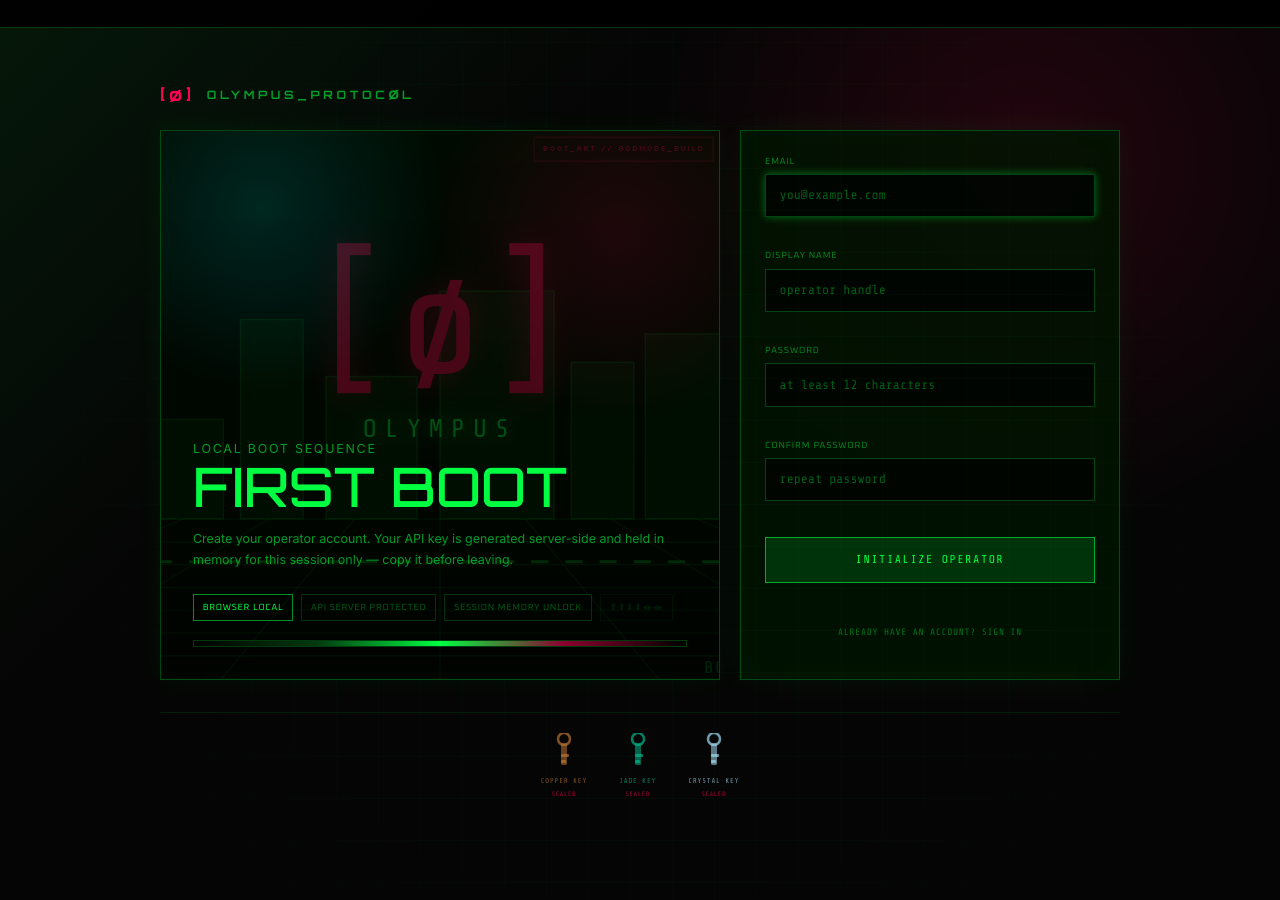
Test: <StartupGate> › setup form rejects a password shorter than 12 characters
This screenshot has width=1280, height=900.
Expected: the heading "FIRST BOOT" is shown, [193, 452, 567, 520]
Type "user@example.com" into the field with placeholder "you@example.com". click: coordinates (930, 196)
box: [765, 174, 1095, 217]
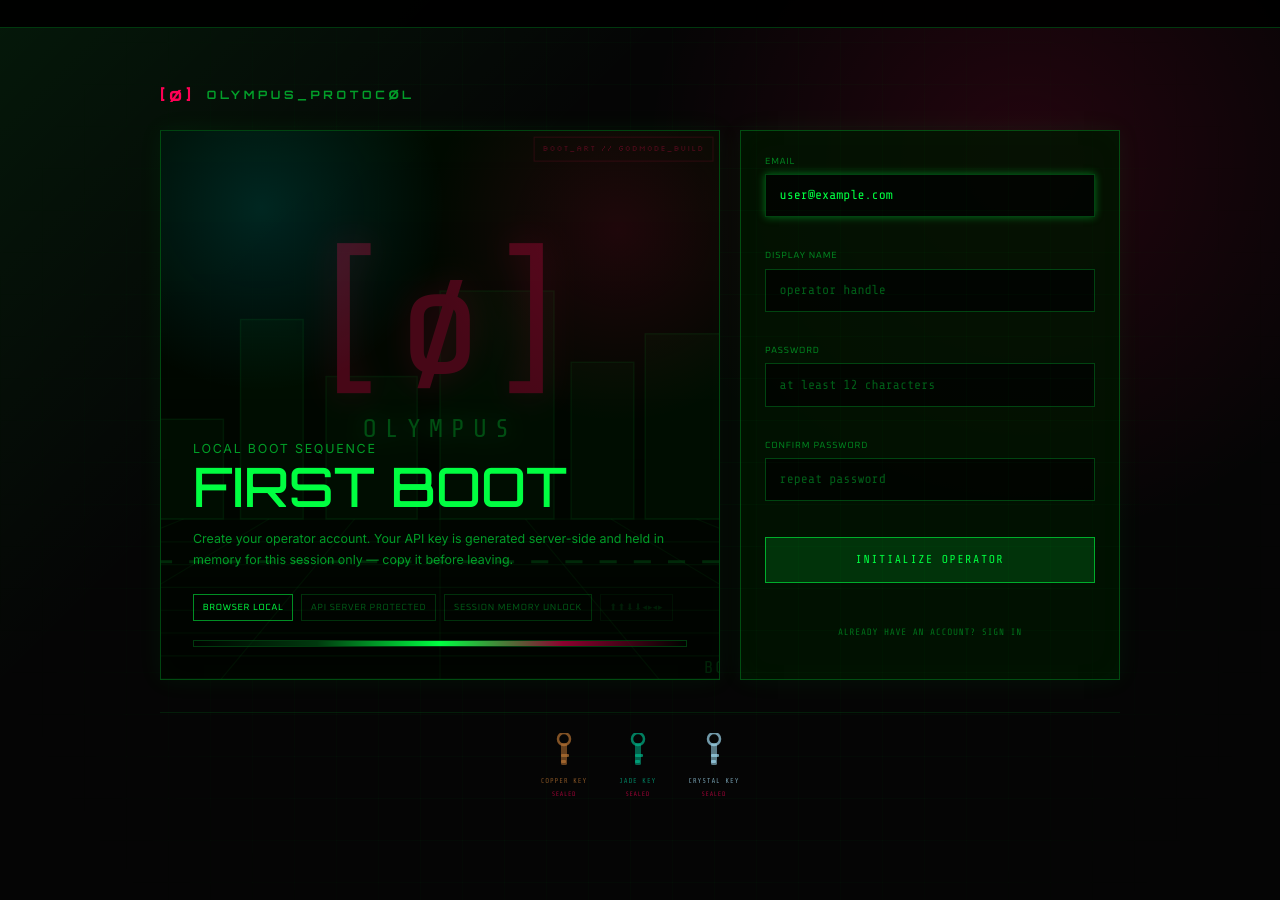
Type "short" into the password field with placeholder "at least 12 characters". click: coordinates (930, 385)
box: [765, 363, 1095, 406]
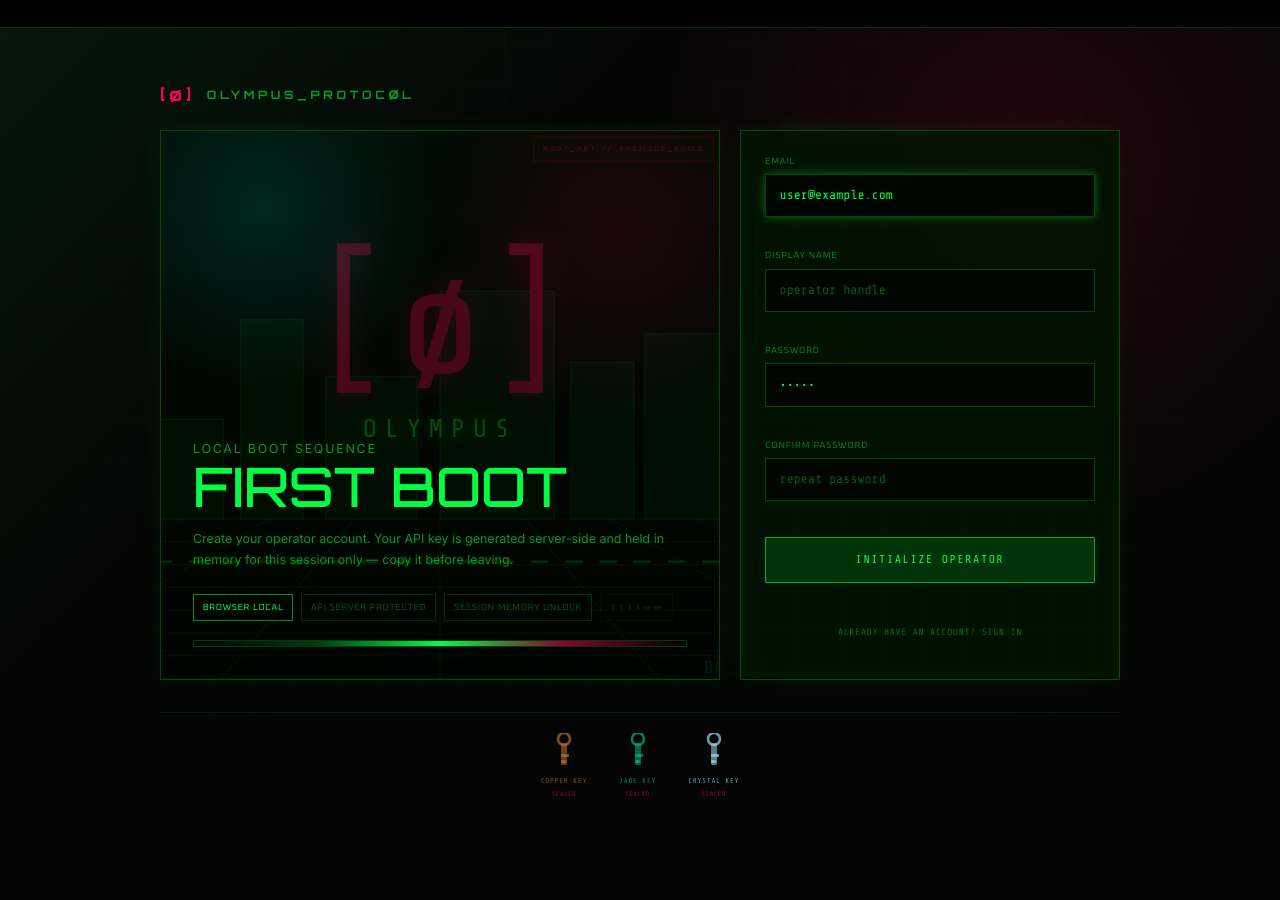
Type "short" into the password field with placeholder "repeat password". click: coordinates (930, 480)
box: [765, 458, 1095, 501]
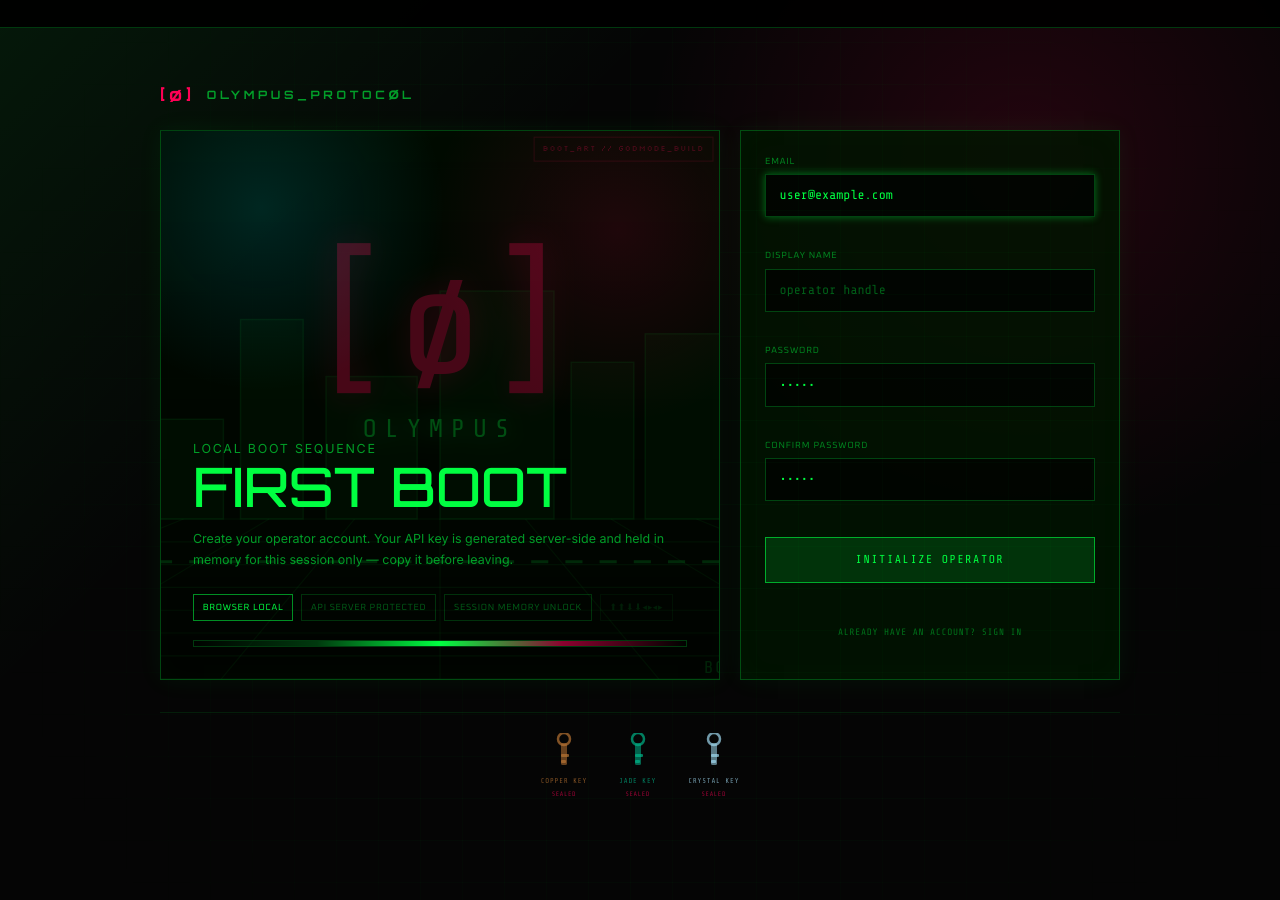
Submit the form with placeholder "you@example.com", box [740, 130, 1120, 680]
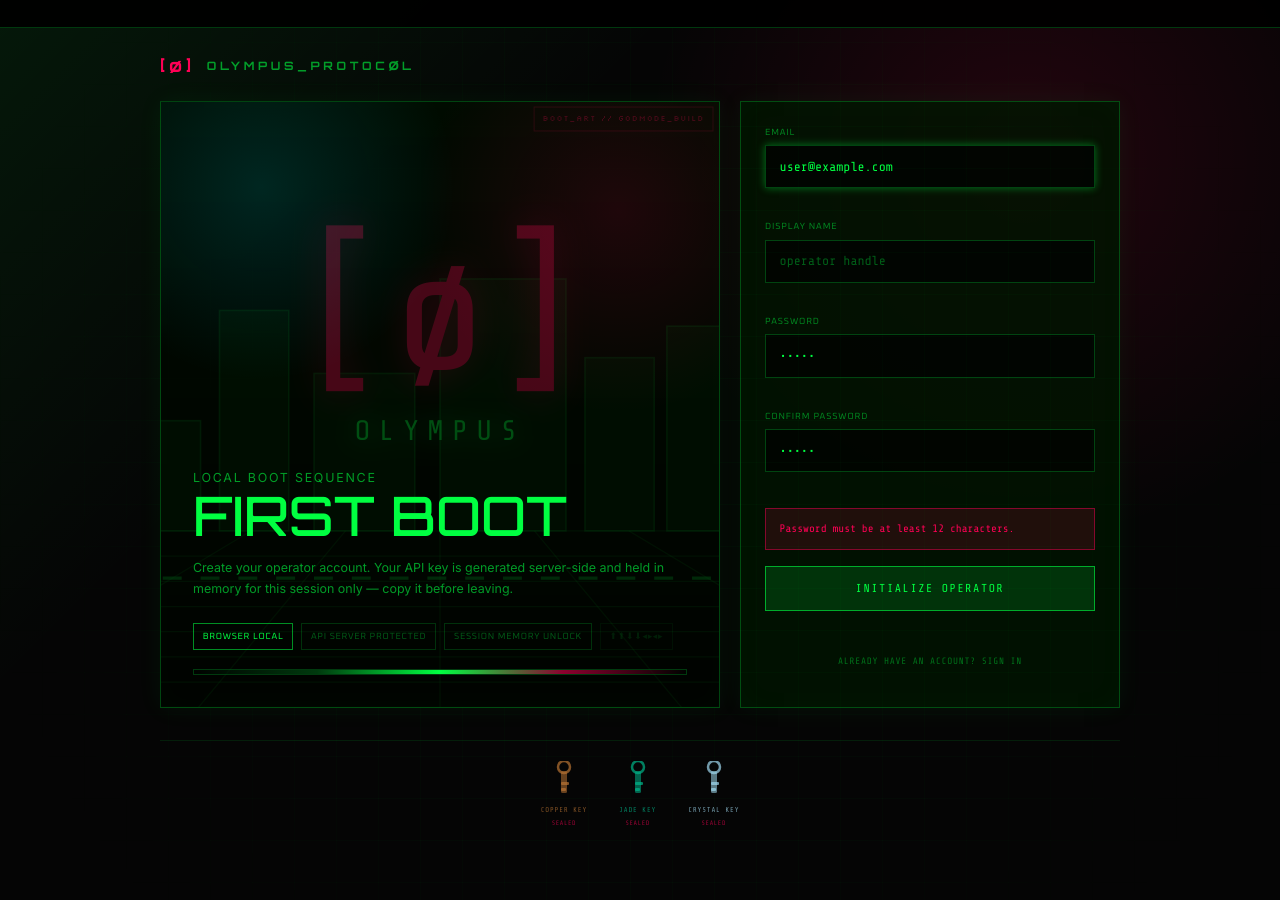
Expected: the text "Password must be at least 12 characters." is shown, [765, 508, 1095, 550]
